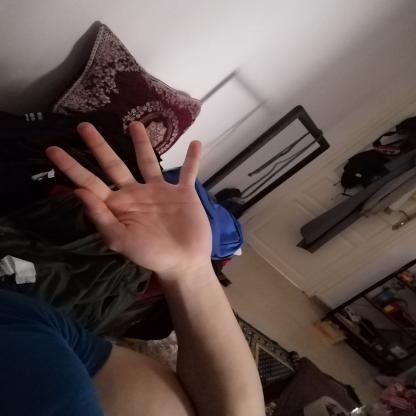SHEEN: (38, 114, 223, 281)
